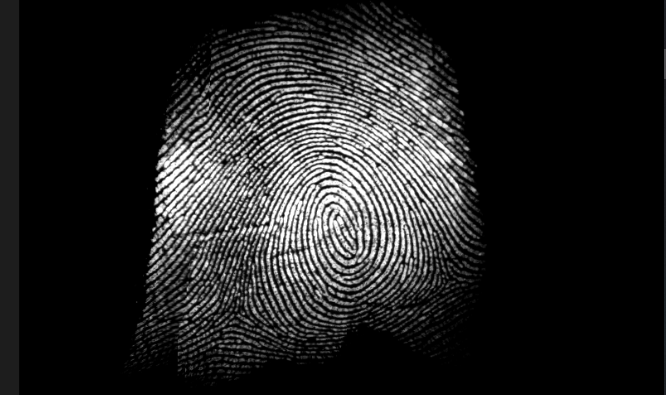deltas: (426, 257, 470, 294), (220, 294, 259, 334)
nucleo: (319, 208, 364, 253)
